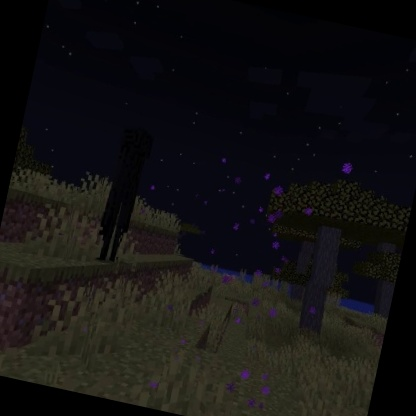enderman: (90, 121, 157, 268)
